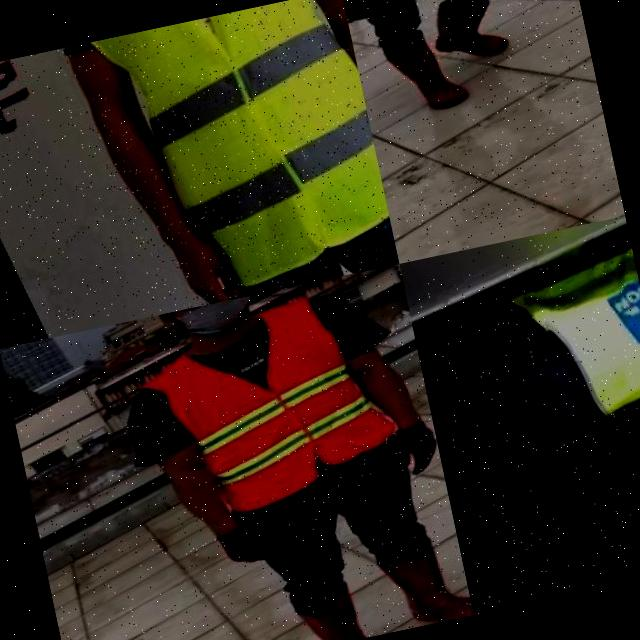boots: (374, 530, 474, 632), (384, 30, 474, 124), (417, 0, 514, 76), (288, 577, 382, 640)
vest: (46, 0, 399, 325), (137, 278, 413, 534), (498, 215, 640, 441)
